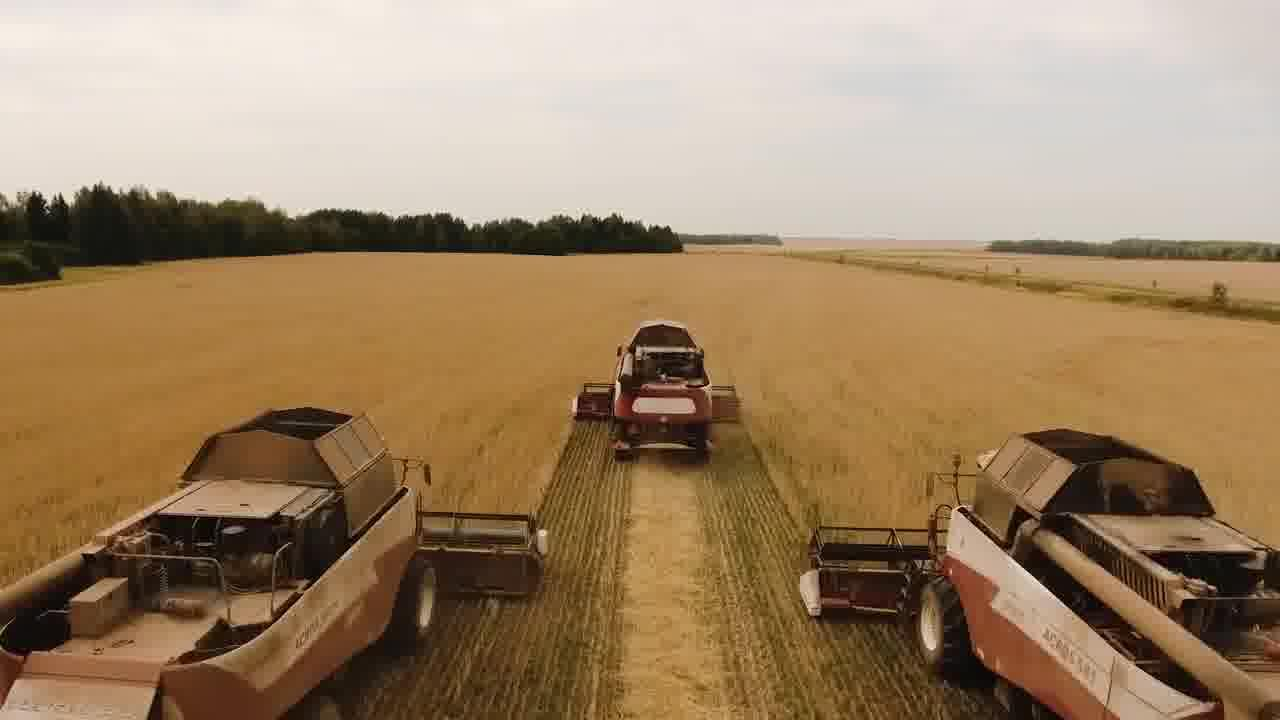combine harvester: (0, 401, 558, 720), (795, 421, 1280, 720), (565, 312, 746, 469)
